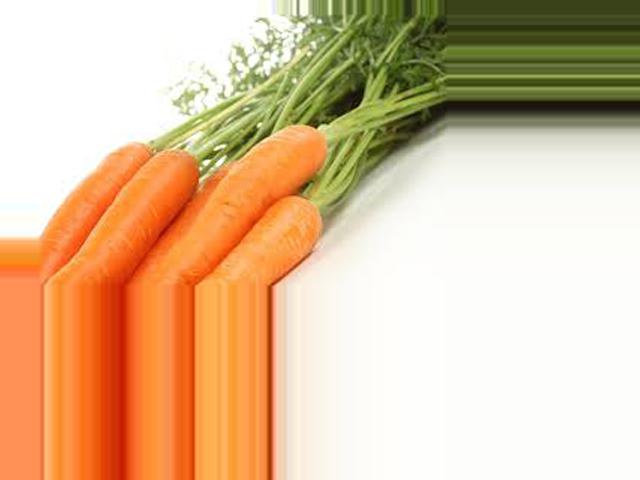carrot: (202, 188, 322, 287)
